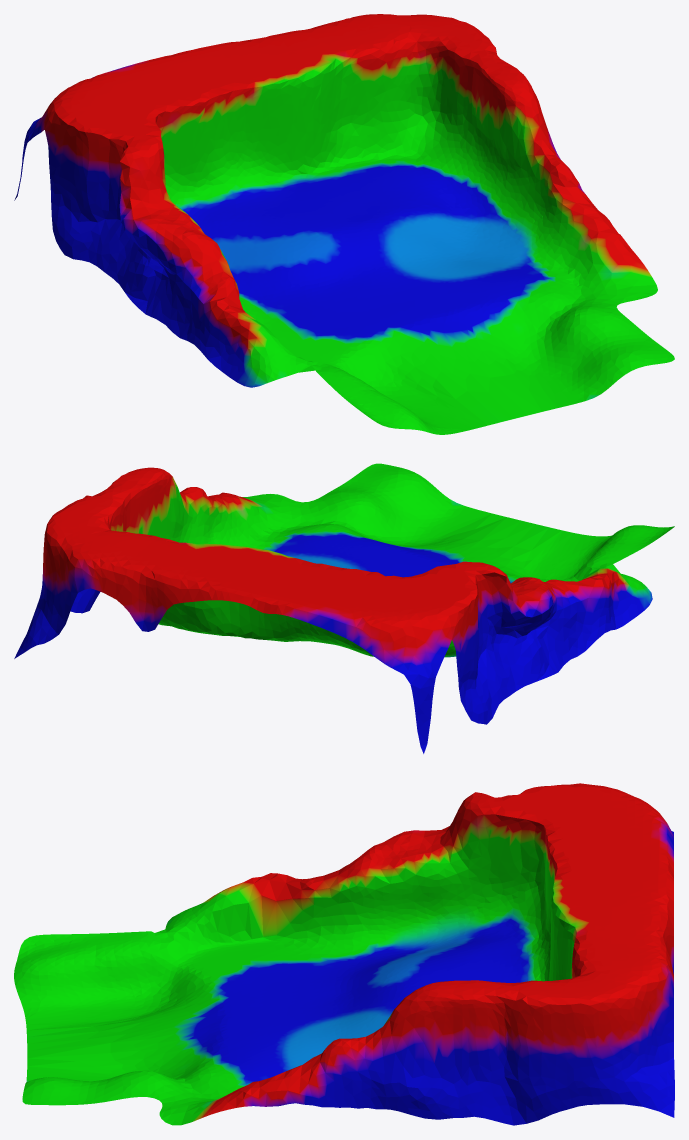
Rendered from terrain.fbx.
3 renders of one model, top to bottom at view 1: azimuth 30°, elevation 25°; view 2: azimuth 150°, elevation 25°; view 3: azimuth 270°, elevation 25°, orthographic. The views are drawn at different scales.
Parts seen in each view (by area): view 1: Plane; view 2: Plane; view 3: Plane.
Part boxes in pixels (x1,y1,x2,y2): Plane: (14,14,674,434); Plane: (14,463,674,753); Plane: (14,783,674,1125).
Bounding box in the file's own units: 20719 × 7248 × 26412.
